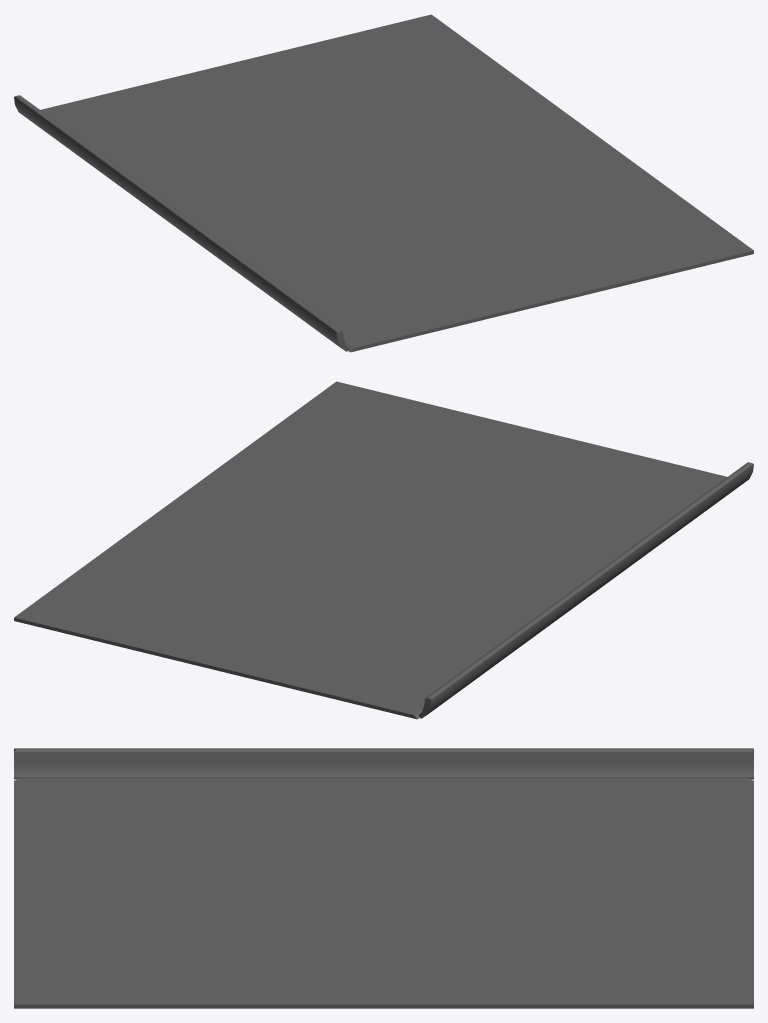
The model's file is Book_11_book_11_2.obj.
3 renders of one model, top to bottom at view 1: azimuth 30°, elevation 25°; view 2: azimuth 150°, elevation 25°; view 3: azimuth 270°, elevation 25°, orthographic. The views are drawn at different scales.
Size of the model in its own units: 0.1756 by 0.00958 by 0.235.
Materials: 1 (1 with a texture image).
